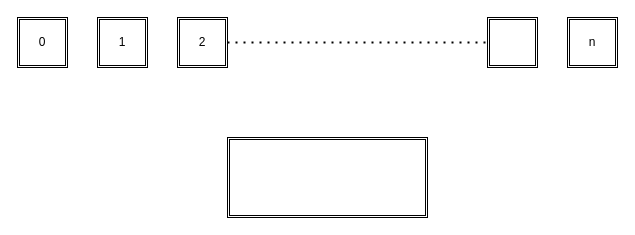
Some shapes in this 635 by 235 pixel diagram are drawn without their labels. Here are the shapes that lost their labels. From the top down, the centre of each, then its label:
At pixel 512 42: "n-1".
At pixel 327 177: "Controller".
